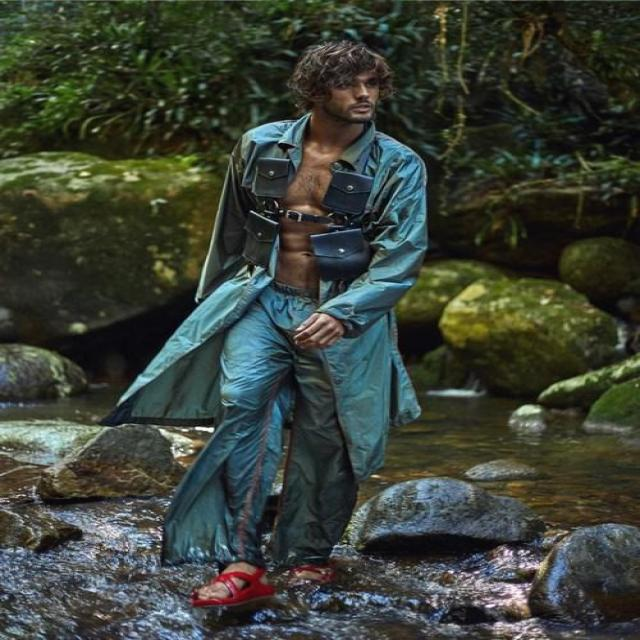Manusia: (142, 22, 428, 630)
